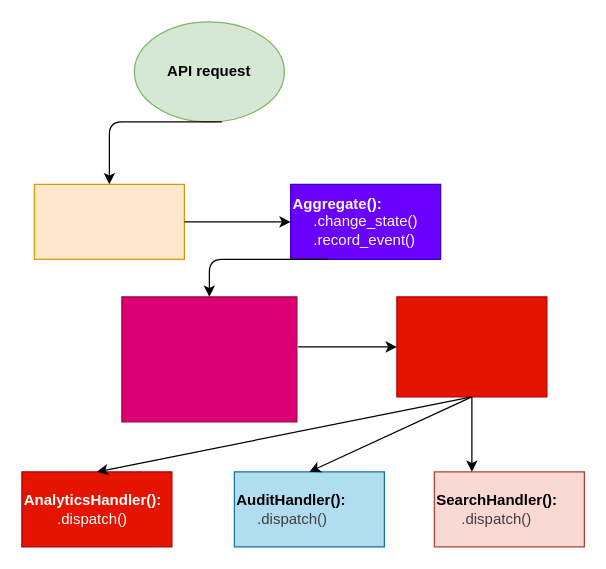
Some shapes in this 606 by 569 pixel diagram are drawn without their labels. The box of each missing label's shape, as (x1, y1, x2, y2) in pixels:
Application Service: (33, 183, 184, 259)
EventDispatcher(): .find_handlers(): (396, 296, 547, 397)
UnitOfWork(): .collect_events() .commit() .call_dispatcher(): (121, 296, 297, 422)
